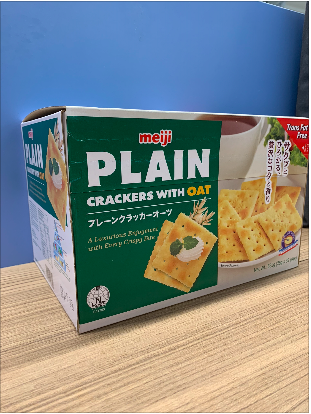Crackers_800-899g: (46, 119, 295, 270)
